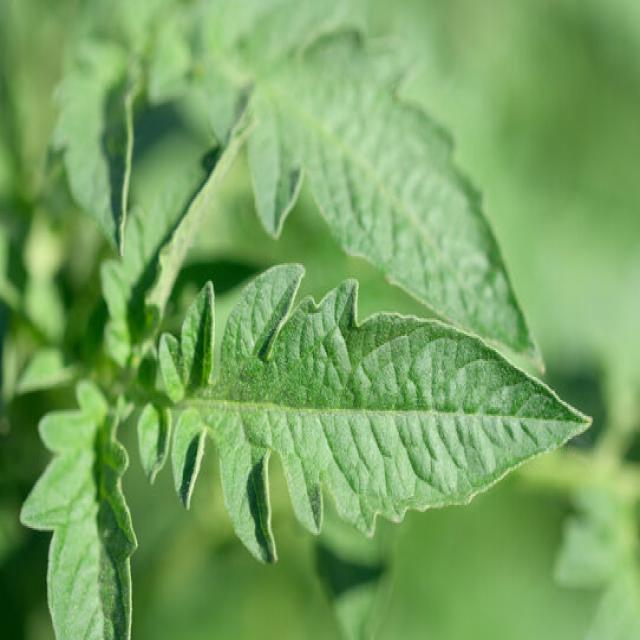Healthy Leaf: (144, 293, 598, 537), (255, 14, 548, 374), (21, 384, 139, 640)
